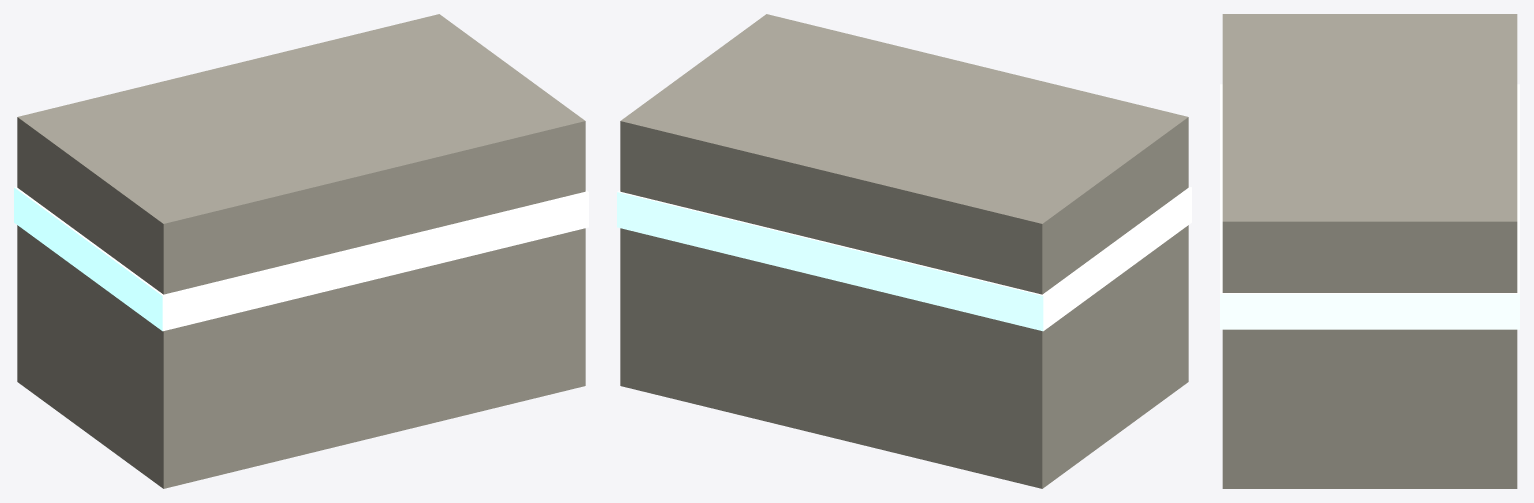
File: neutral_evidence_crate.glb
3 renders of one model, left to right at view 1: azimuth 30°, elevation 25°; view 2: azimuth 150°, elevation 25°; view 3: azimuth 270°, elevation 25°, orthographic.
Visible parts, largest first — view 1: hull; view 2: hull; view 3: hull.
Part boxes in pixels (x1=…): hull: x1=14, y1=14, x2=588, y2=488; hull: x1=617, y1=14, x2=1191, y2=488; hull: x1=1220, y1=14, x2=1519, y2=488.
Size of the model in its own units: 1.01 by 0.6 by 0.61.
